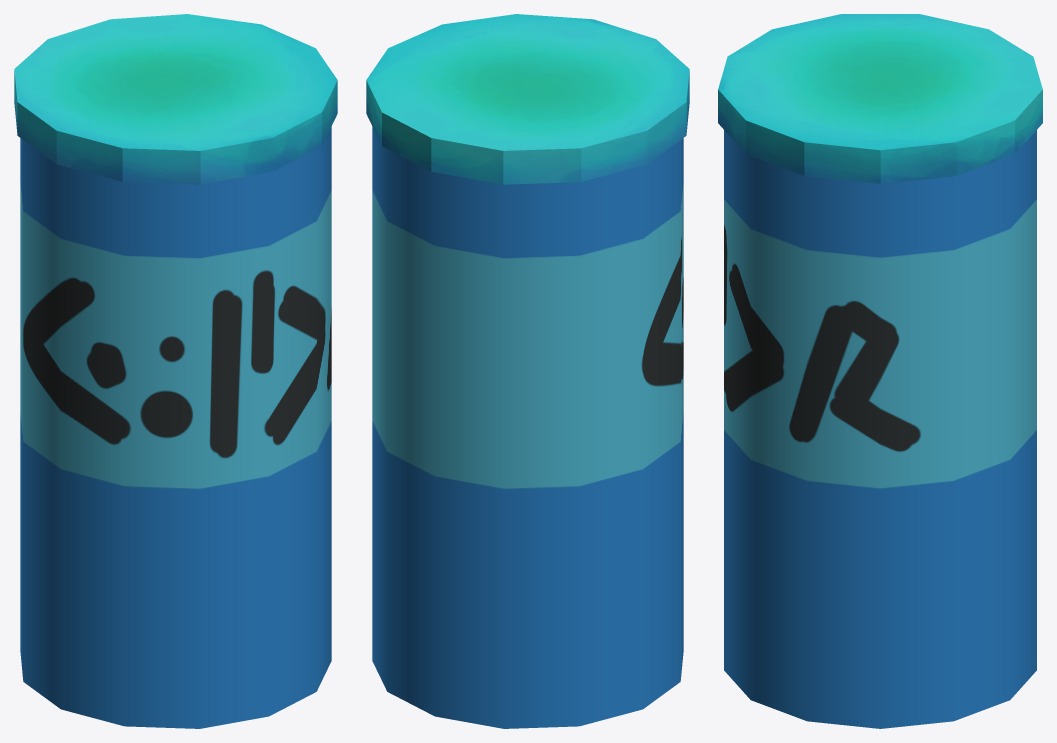
The model's file is Food_Box3B.fbx.
3 views of the same model, side by side, from view 1: azimuth 30°, elevation 25°; view 2: azimuth 150°, elevation 25°; view 3: azimuth 270°, elevation 25° (orthographic).
Visible parts, largest first — view 1: pCylinder14; view 2: pCylinder14; view 3: pCylinder14.
Part boxes in pixels (box(x1,y1,x2,y2)): pCylinder14: box(14, 14, 337, 728); pCylinder14: box(366, 14, 689, 728); pCylinder14: box(718, 14, 1042, 728).
Size of the model in its own units: 11.54 by 22.96 by 11.63.
Materials: 1 (1 with a texture image).
